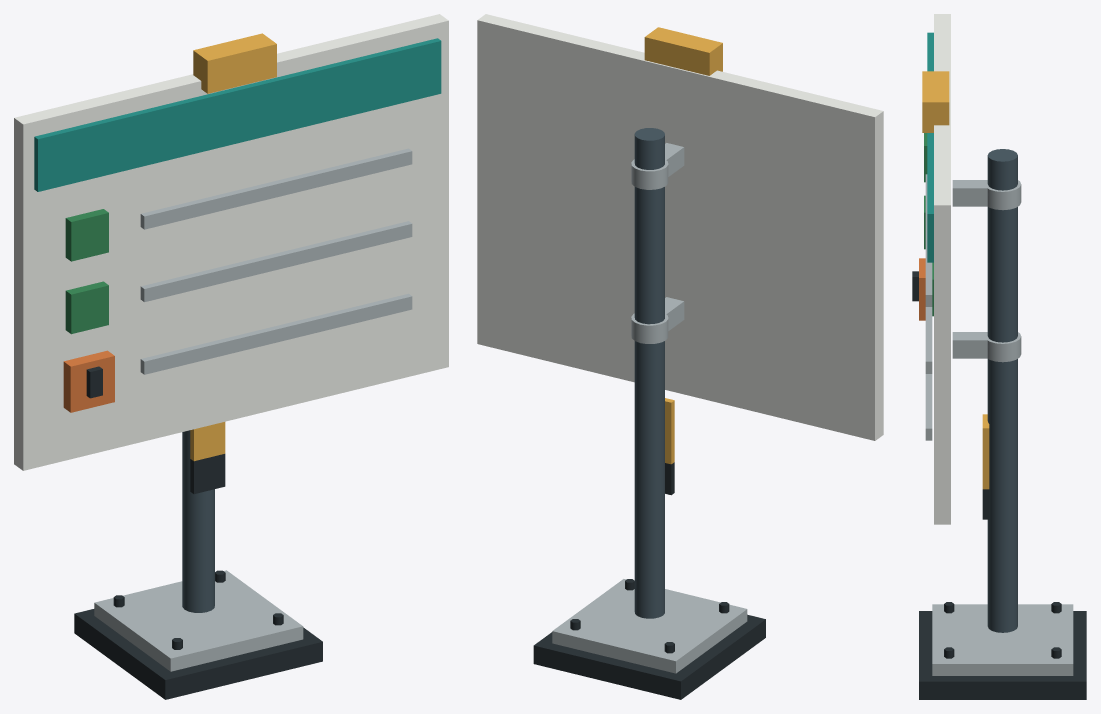
Rendered from permit_board.glb.
The picture shows the model from 3 angles, left to right: view 1: azimuth 30°, elevation 25°; view 2: azimuth 150°, elevation 25°; view 3: azimuth 270°, elevation 25°; orthographic projection. The views are drawn at different scales.
Parts seen in each view (by area): view 1: permit_board__body, permit_status_bad; view 2: permit_board__body; view 3: permit_board__body, permit_status_bad.
Boxes of the visible parts, x1=… form: permit_board__body: x1=14, y1=14, x2=448, y2=699; permit_status_bad: x1=63, y1=350, x2=114, y2=412; permit_board__body: x1=477, y1=14, x2=883, y2=699; permit_board__body: x1=919, y1=14, x2=1086, y2=699; permit_status_bad: x1=919, y1=258, x2=925, y2=320.
Bounding box in the file's own units: 1.35 × 1.9 × 0.52.
